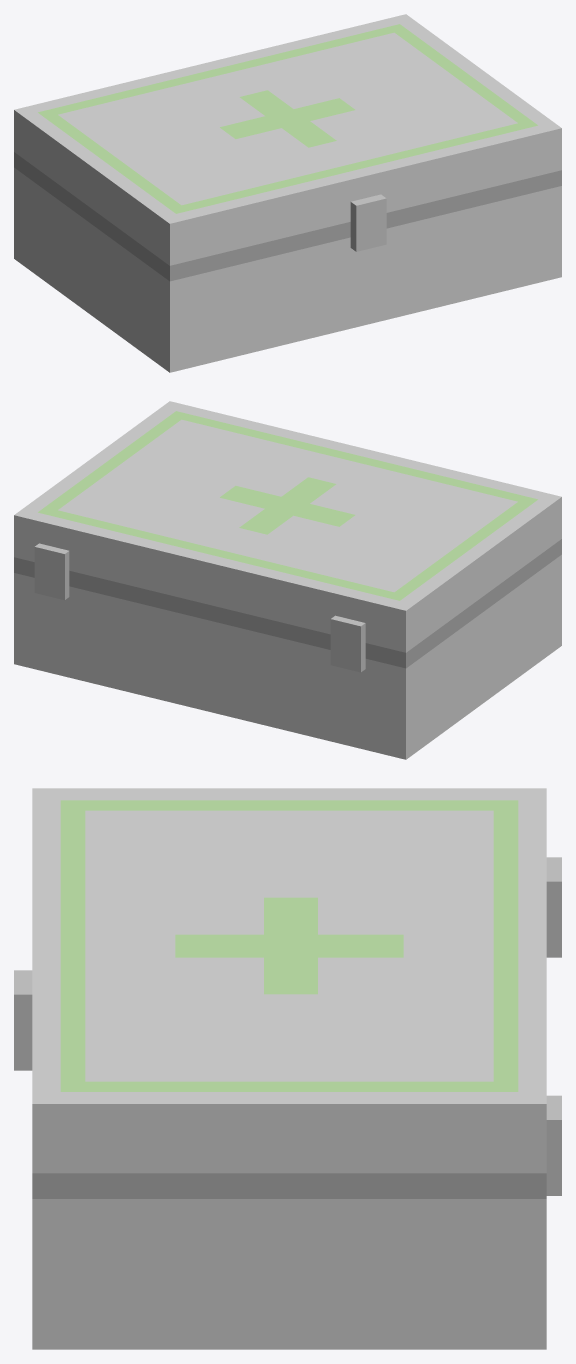
Rendered from first-aid kit.fbx.
3 renders of one model, top to bottom at view 1: azimuth 30°, elevation 25°; view 2: azimuth 150°, elevation 25°; view 3: azimuth 270°, elevation 25°, orthographic. The views are drawn at different scales.
Parts seen in each view (by area): view 1: Cube_35; view 2: Cube_35; view 3: Cube_35.
Part boxes in pixels (x1=…): Cube_35: x1=14, y1=14, x2=561, y2=372; Cube_35: x1=14, y1=401, x2=561, y2=759; Cube_35: x1=14, y1=788, x2=561, y2=1349.
Size of the model in its own units: 27.68 by 10.05 by 20.31.
